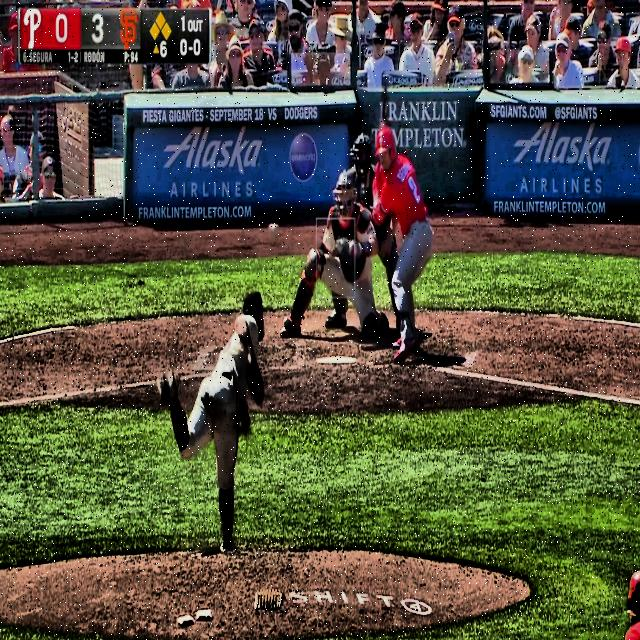baseball: (268, 223, 279, 236)
